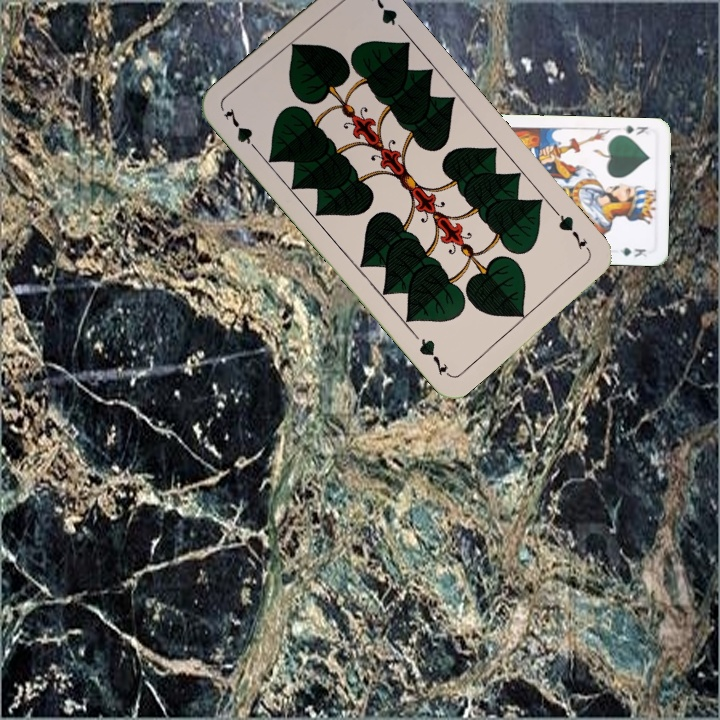G7: (219, 104, 263, 156), (550, 206, 594, 256)
GK: (619, 121, 651, 138)
